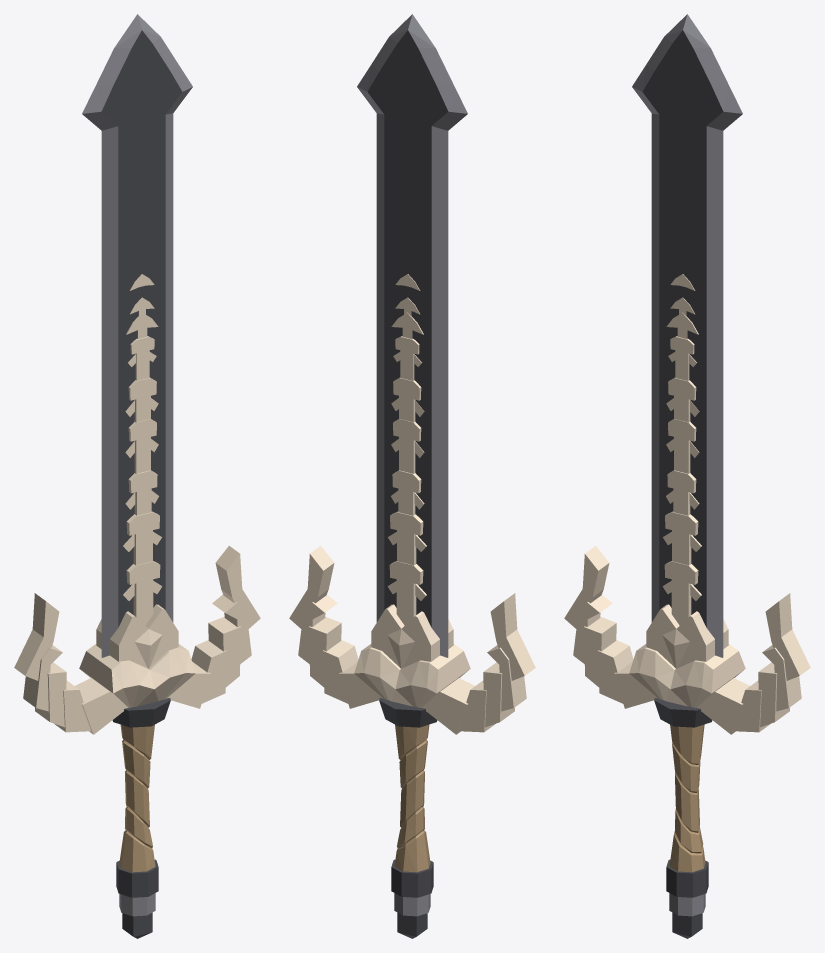
The model's file is _sword_22.fbx.
The picture shows the model from 3 angles, left to right: view 1: azimuth 30°, elevation 25°; view 2: azimuth 150°, elevation 25°; view 3: azimuth 330°, elevation 25°; orthographic projection.
Visible parts, largest first — view 1: sword_22; view 2: sword_22; view 3: sword_22.
Boxes of the visible parts, x1,y1,x2,y2 form: sword_22: [14, 14, 260, 938]; sword_22: [289, 14, 535, 938]; sword_22: [564, 14, 810, 938].
Bounding box in the file's own units: 30.23 × 113 × 7.69.
